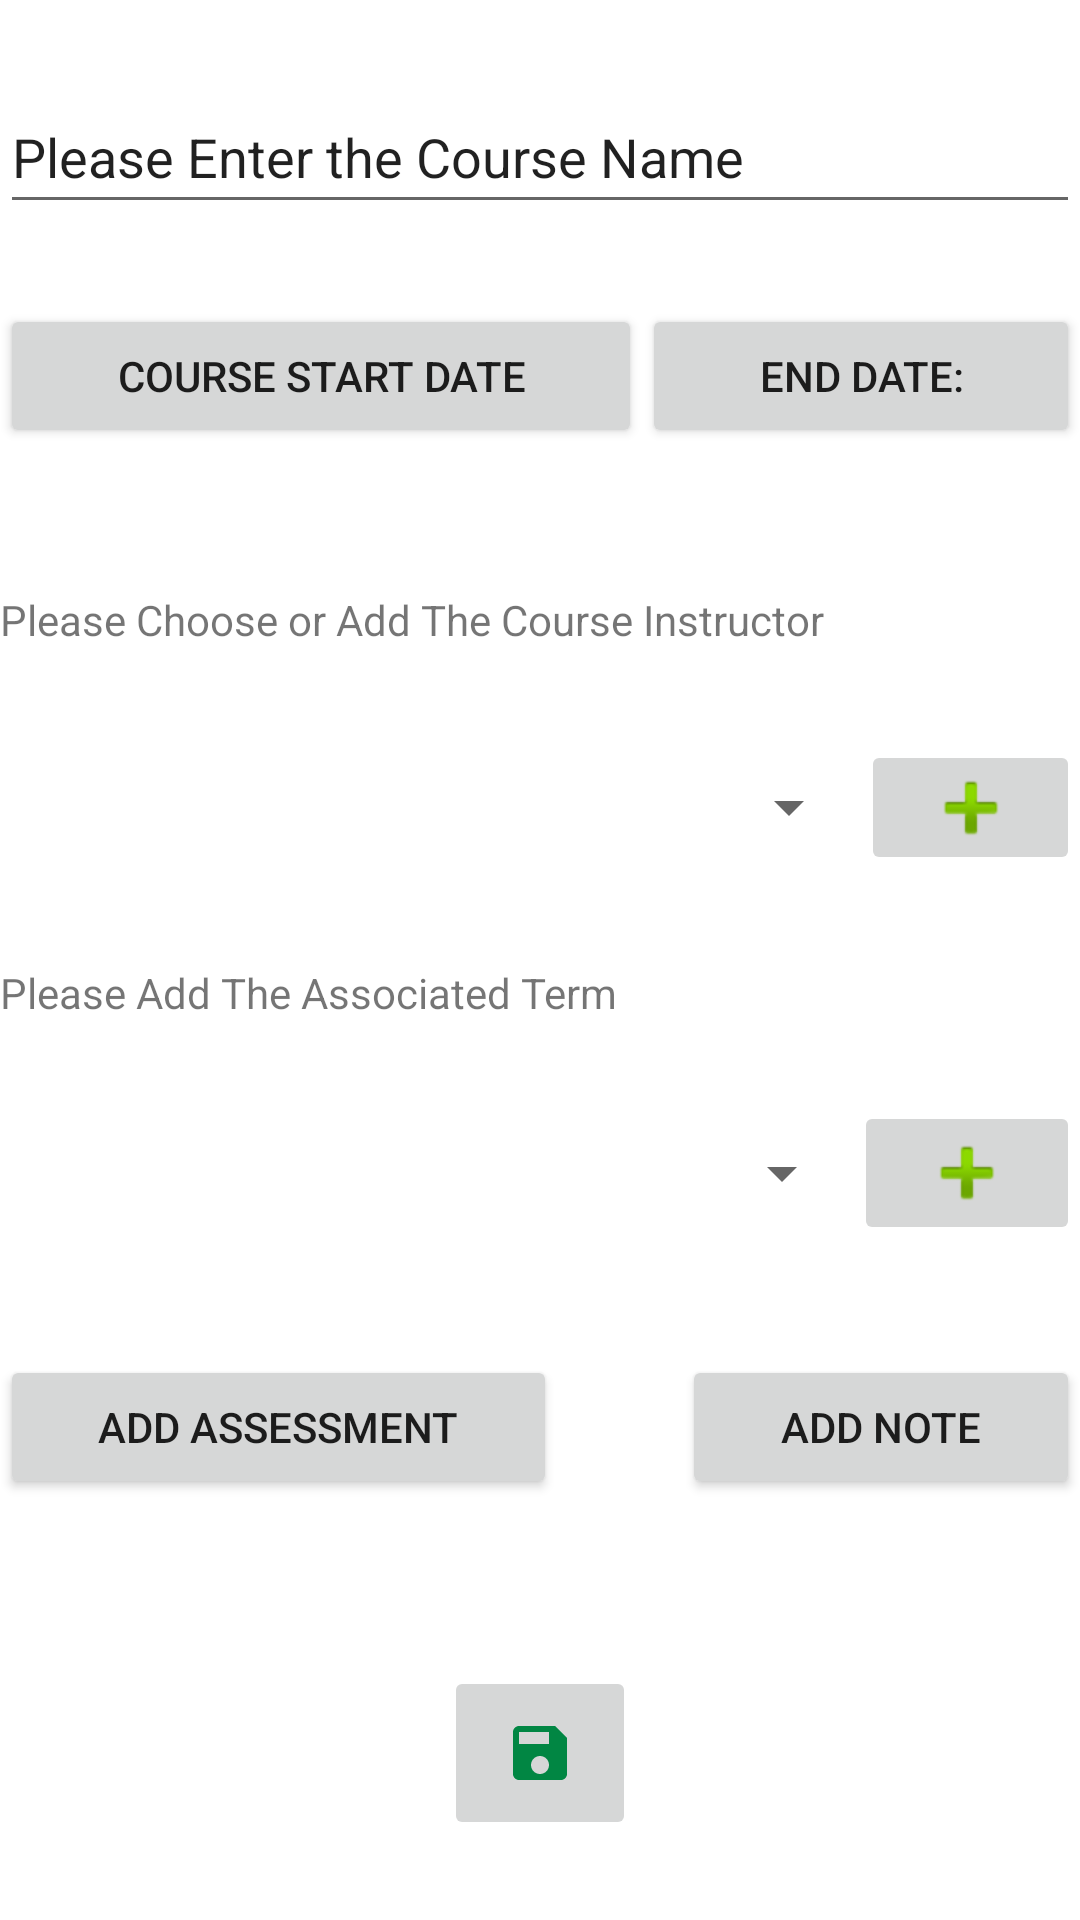

Icon bounding boxes for this 1080px×1920px phone screenshot, format (x1, y1, x2, y2):
save: (456, 1684, 624, 1822)
